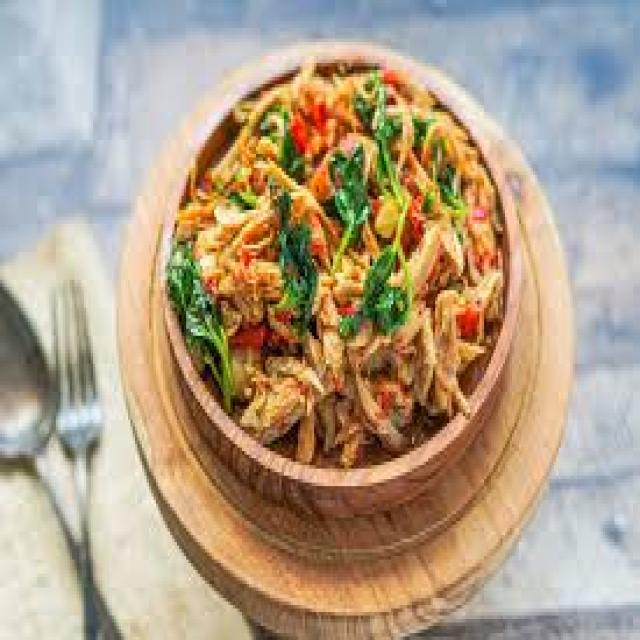ayam_suwir: (177, 58, 496, 444)
